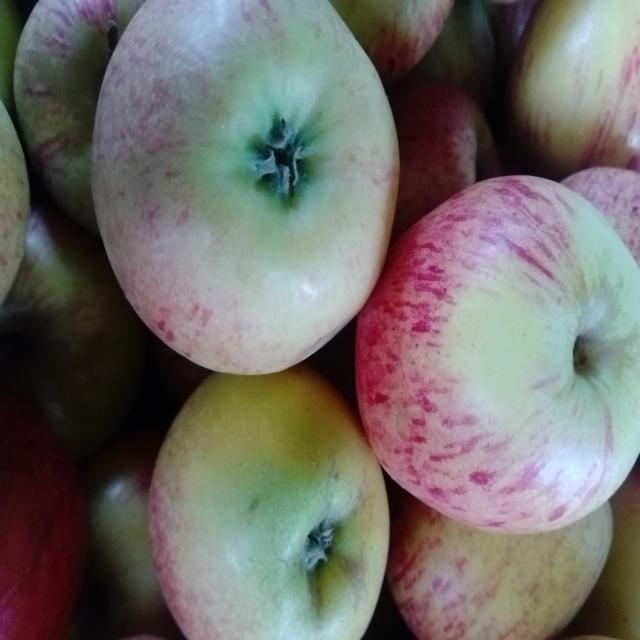Fresh Apple: (86, 0, 396, 380), (361, 176, 640, 541), (143, 375, 402, 640)
